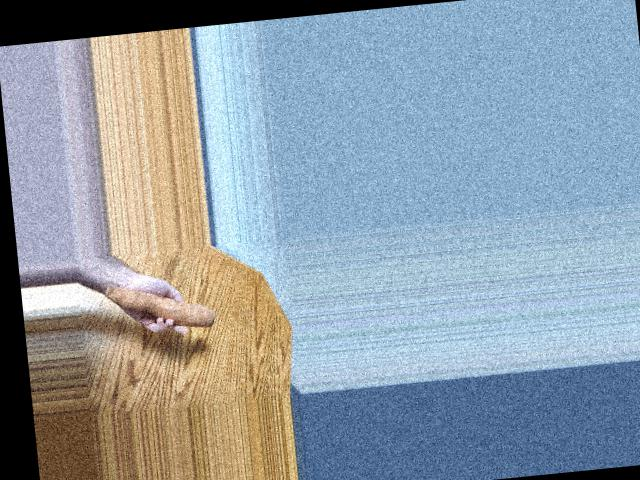sweet_potato: (103, 273, 218, 338)
